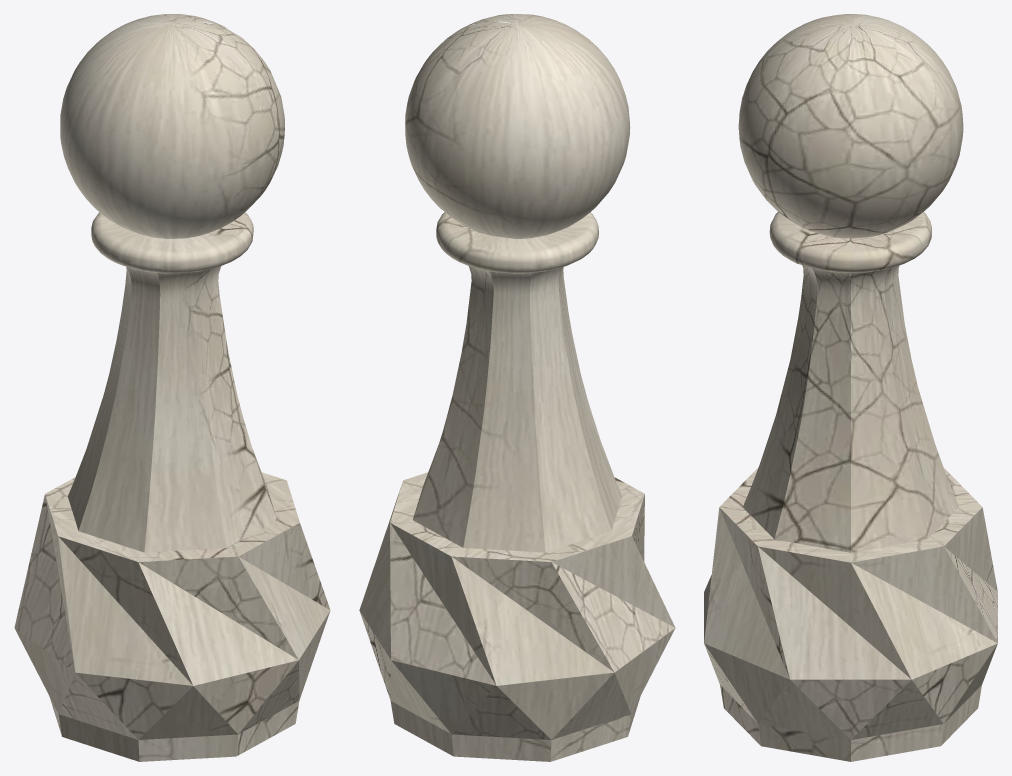
The model's file is lithoxyl_pawn_white.glb.
The picture shows the model from 3 angles, left to right: view 1: azimuth 30°, elevation 25°; view 2: azimuth 150°, elevation 25°; view 3: azimuth 270°, elevation 25°; orthographic projection.
Visible parts, largest first — view 1: Lithoxyl_Pawn_Ivory; view 2: Lithoxyl_Pawn_Ivory; view 3: Lithoxyl_Pawn_Ivory.
Boxes of the visible parts, box(x1,y1,x2,y2) form: Lithoxyl_Pawn_Ivory: box(14, 14, 330, 761); Lithoxyl_Pawn_Ivory: box(359, 14, 675, 761); Lithoxyl_Pawn_Ivory: box(704, 14, 997, 761).
Bounding box in the file's own units: 0.0214 × 0.055 × 0.0214.
Materials: 1 (1 with a texture image).
